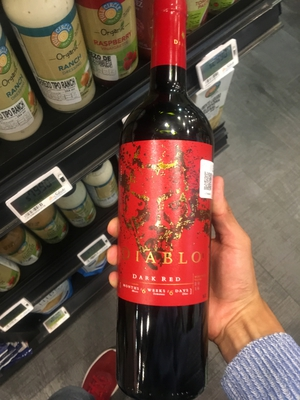diablo dark red: (113, 24, 217, 400)
